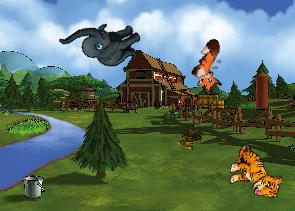elephant: (58, 0, 147, 85)
fox: (183, 36, 239, 98)
tiger: (224, 143, 288, 201)
